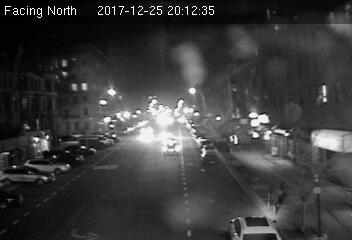car: (199, 150, 221, 167), (162, 141, 180, 157)
